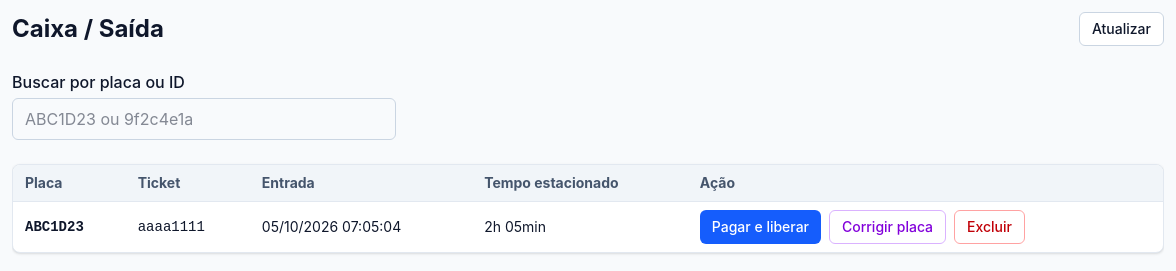
Scenario: PaymentPage — placa manual e exclusão › sessão com placa oferece Corrigir placa já preenchido
Check: the table is shown, box [13, 165, 1163, 252]
Click the button "Corrigir placa": click(888, 227) [829, 210, 946, 244]
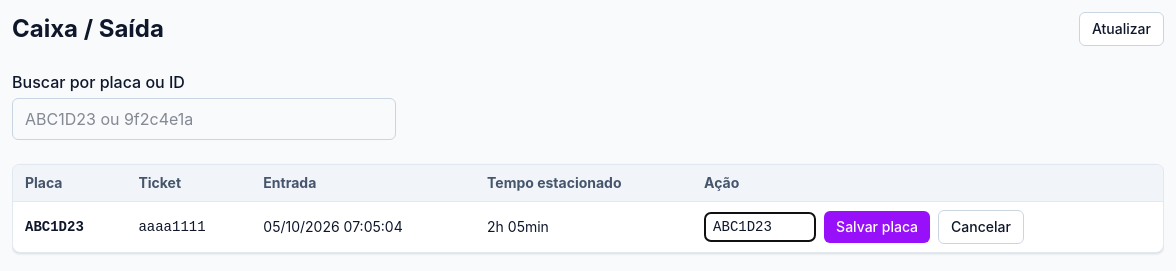
Check: the field named "Placa do veículo" holds "ABC1D23", box [704, 212, 816, 242]
